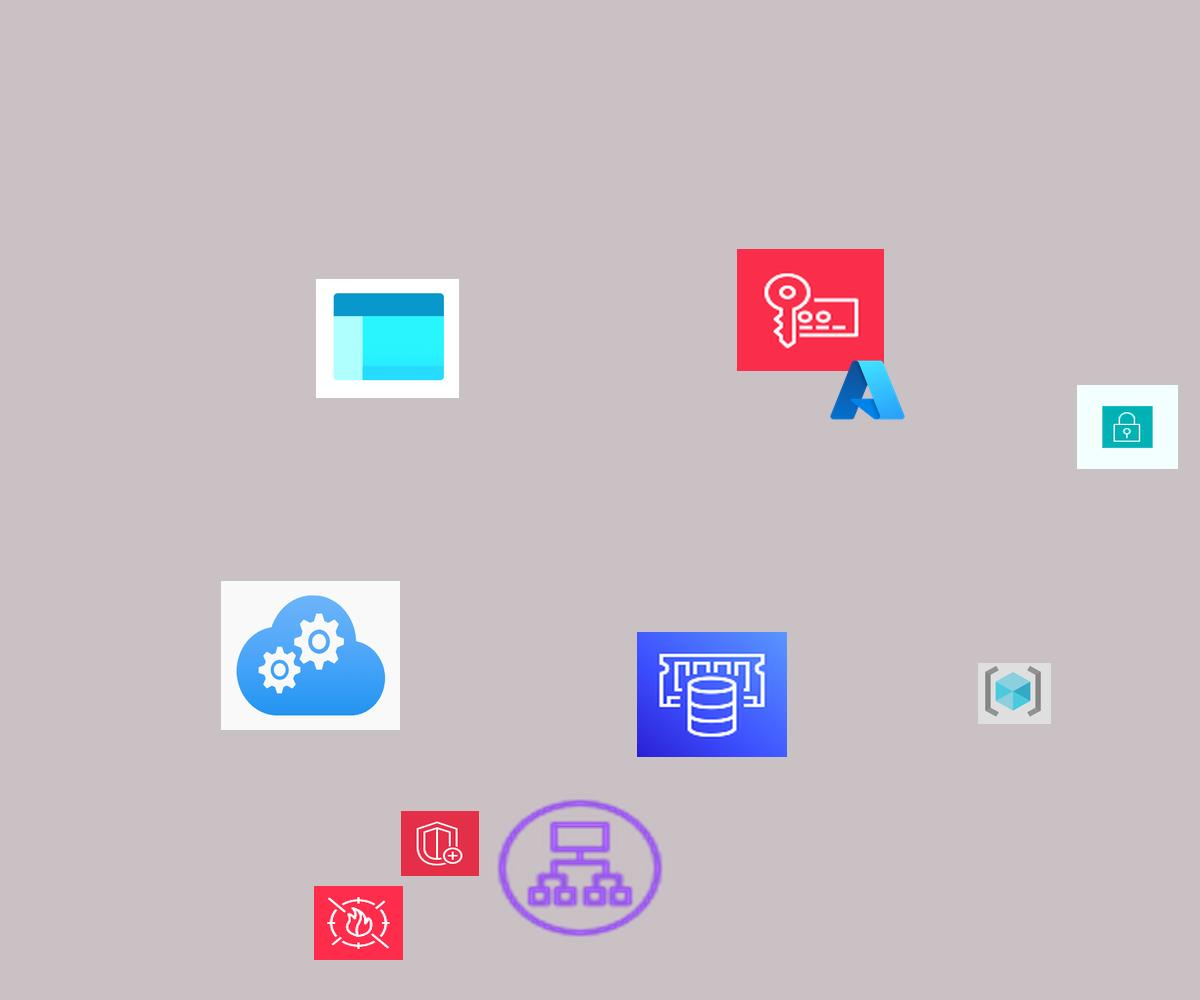AWS-ElastiCache: (637, 632, 787, 757)
AWS-Key-Management-Service: (737, 249, 884, 371)
AWS-Private-subnet: (1077, 385, 1178, 469)
AWS-Res_Elastic-Load-Balancing_Application-Load-Balancer: (491, 794, 669, 942)
AWS-Shield: (401, 811, 479, 876)
AWS-WAF: (314, 886, 403, 960)
Azure_cloud_services: (221, 581, 400, 730)
Azure_management-portal: (316, 279, 459, 398)
Azure_resource_group: (978, 663, 1051, 724)
Azure_services: (827, 356, 908, 424)
